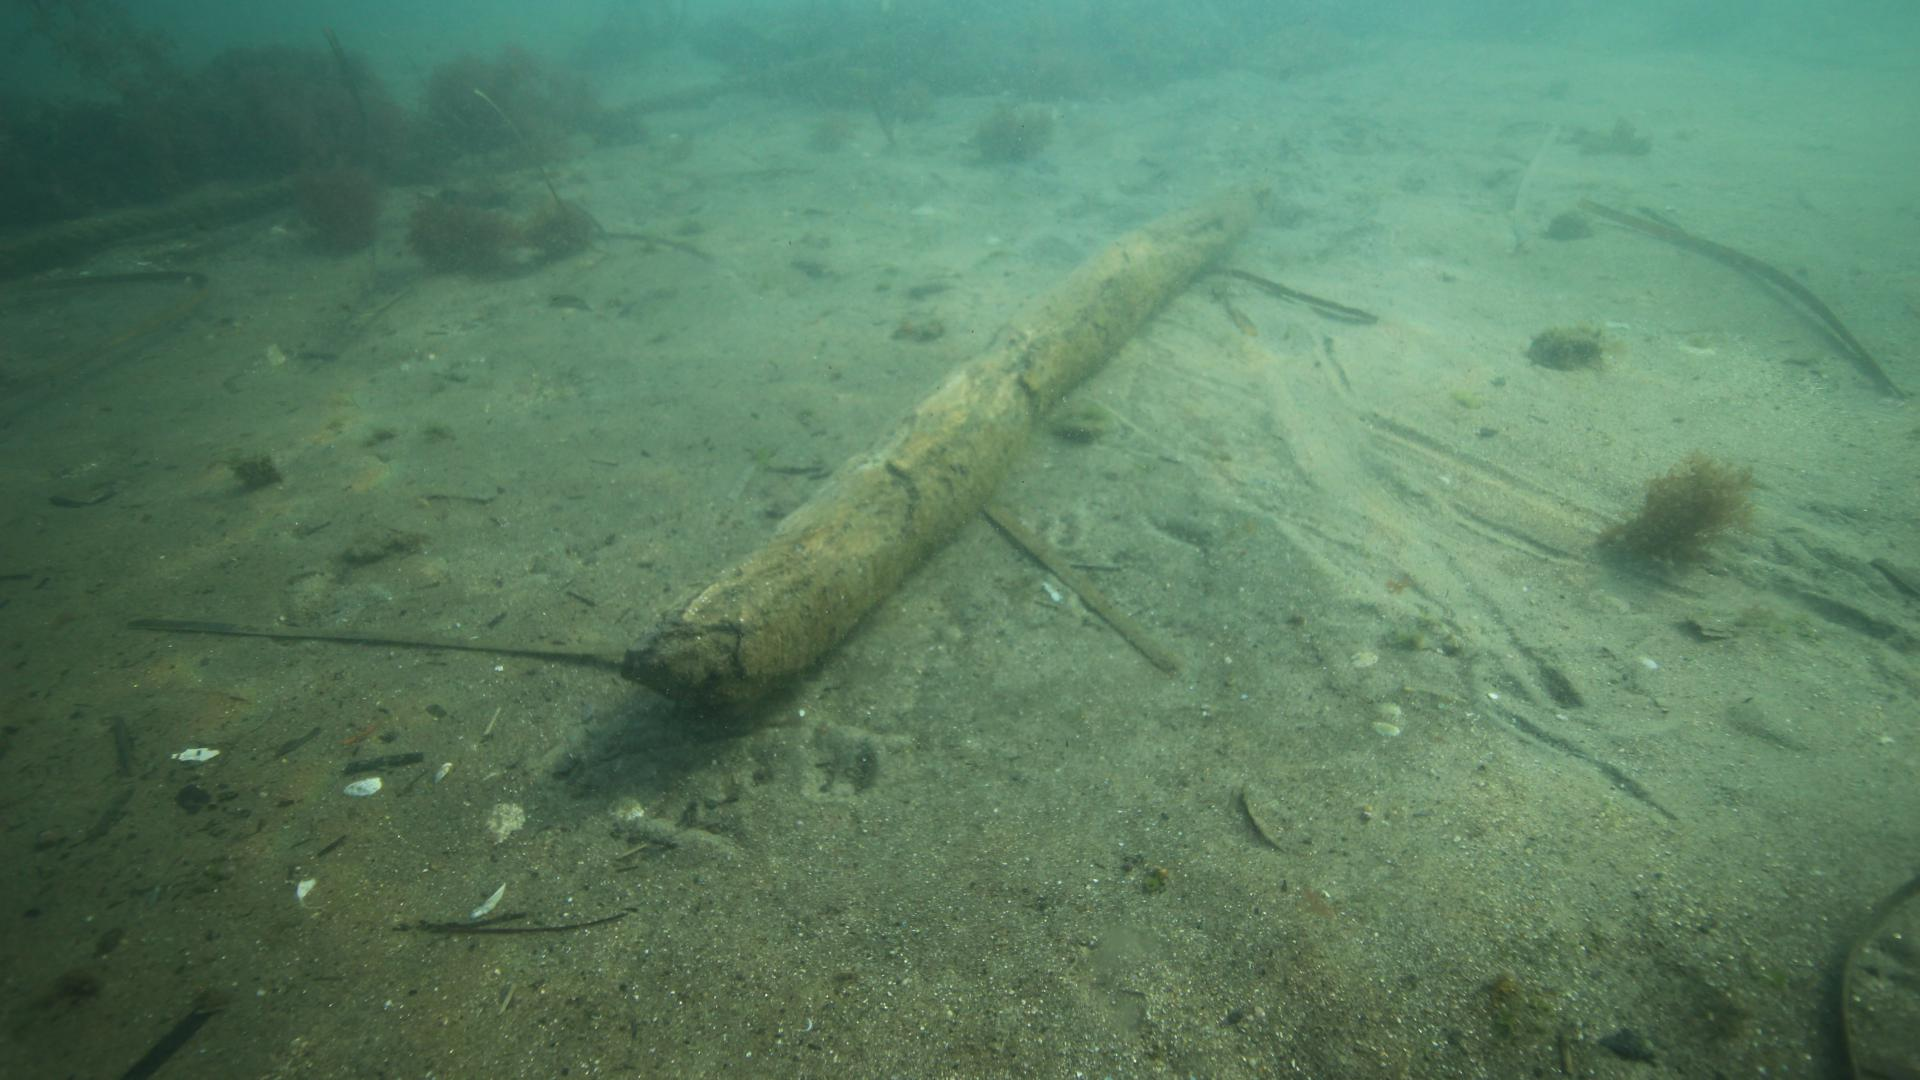wood: (617, 175, 1259, 717)
